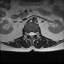CCS_normal: (31, 30, 32, 39)
LFS_normal: (35, 30, 36, 36)
LLS_normal: (33, 31, 35, 37)
RFS_normal: (26, 30, 28, 36)
RLS_normal: (28, 31, 31, 37)
